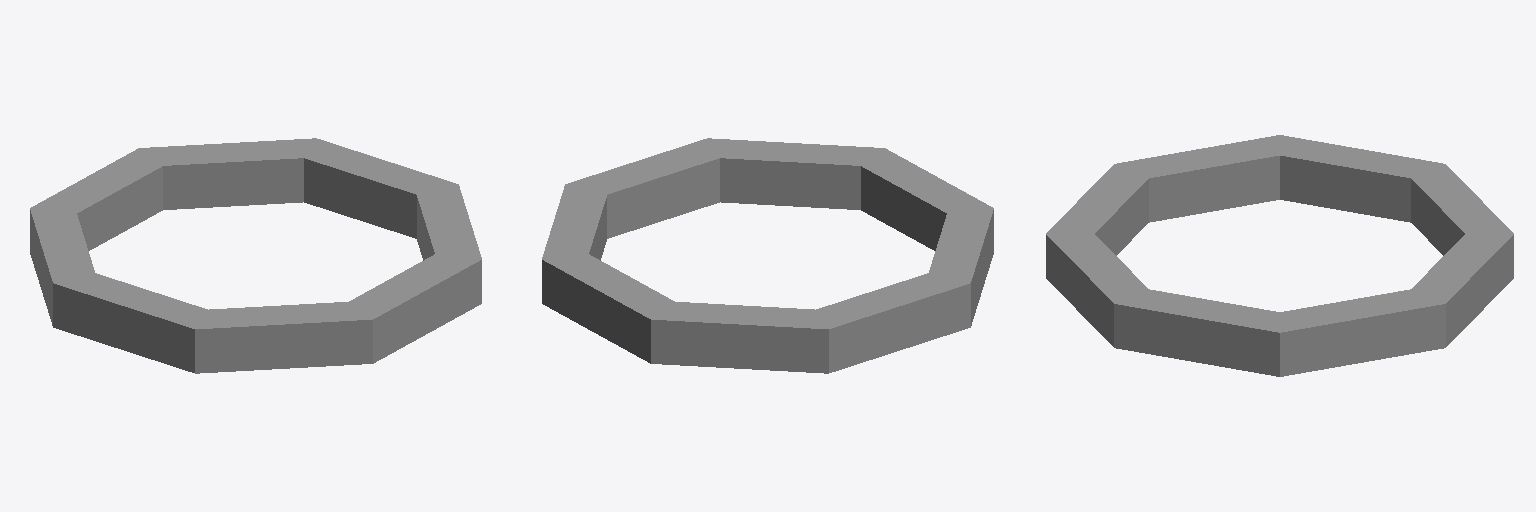
Rendered from ring1.obj.
3 views of the same model, side by side, from view 1: azimuth 30°, elevation 25°; view 2: azimuth 150°, elevation 25°; view 3: azimuth 270°, elevation 25° (orthographic).
Parts seen in each view (by area): view 1: Ring01.001; view 2: Ring01.001; view 3: Ring01.001.
Part boxes in pixels (x1,y1,x2,y2): Ring01.001: (30,138,481,373); Ring01.001: (542,138,993,373); Ring01.001: (1046,135,1513,376).
Size of the model in its own units: 0.7555 by 0.0788 by 0.7556.